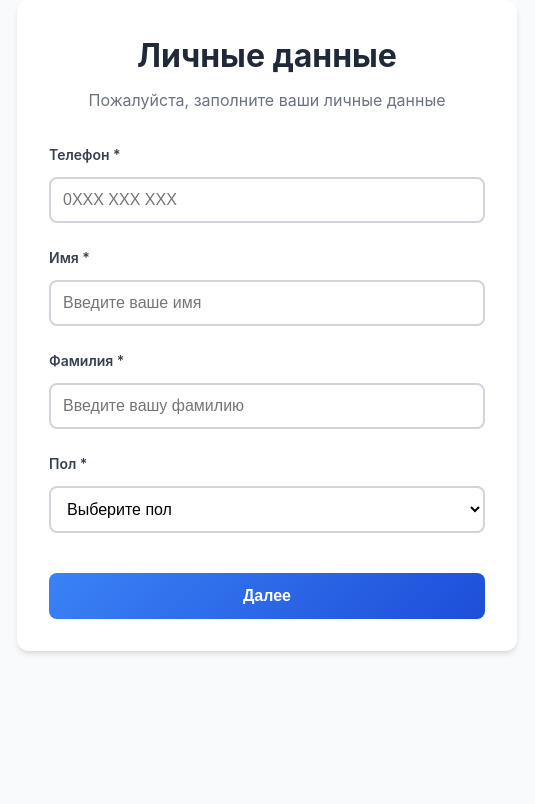
Scenario: PersonalDataForm › должен показывать ошибки валидации при пустых полях
Click the button "Далее".
click(267, 596)  # box [49,573,485,619]
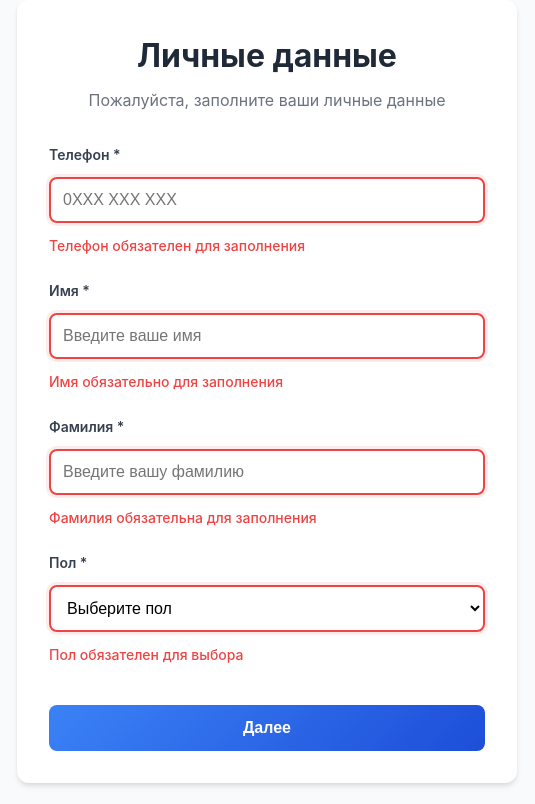
Expected: the text "Телефон обязателен для заполнения" is shown, [49,237,305,254]
Expected: the text "Имя обязательно для заполнения" is shown, [49,373,283,390]
Expected: the text "Фамилия обязательна для заполнения" is shown, [49,509,317,526]
